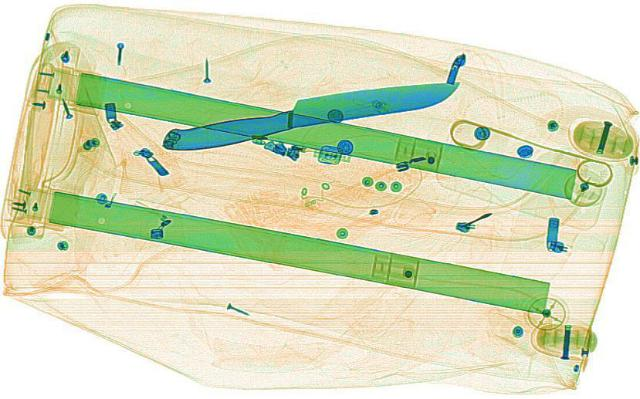Knife: (150, 70, 468, 155)
